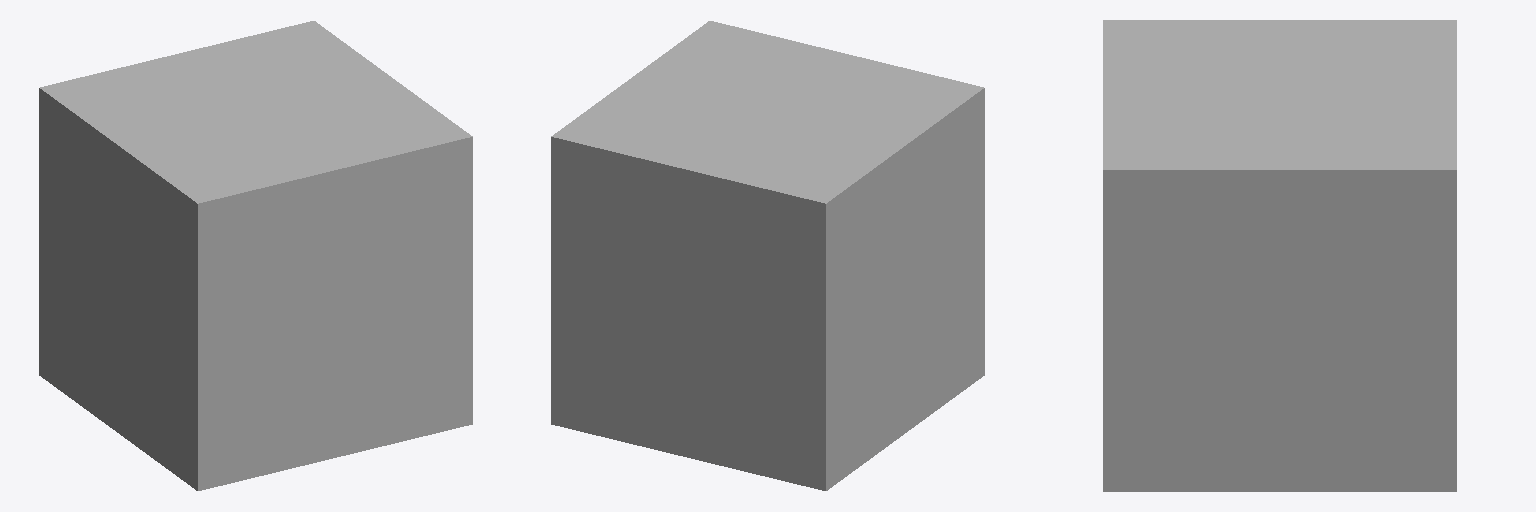
The robot description file, URDF, robot "root":
<robot name="root">
  <link name="link_ycb~cubei9_convex_piece_0">
    <inertial>
      <origin xyz="0 0 0" rpy="0 0 0"/>
      <mass value="5.26E-02"/>
      <inertia ixx="4.88E-06" ixy="-2.63E-14" ixz="-2.63E-14" iyy="4.88E-06" iyz="-1.18E-13" izz="4.88E-06"/>
    </inertial>
    <visual>
      <origin xyz="0 0 0" rpy="0 0 0"/>
      <geometry>
        <mesh filename="ycb~cubei9_convex_piece_0.obj" scale="1.0000E+00 1.0000E+00 1.0000E+00"/>
      </geometry>
      <material name="">
        <color rgba="7.50E-01 7.50E-01 7.50E-01 1"/>
      </material>
    </visual>
    <collision>
      <origin xyz="0 0 0" rpy="0 0 0"/>
      <geometry>
        <mesh filename="ycb~cubei9_convex_piece_0.obj" scale="1.0000E+00 1.0000E+00 1.0000E+00"/>
      </geometry>
    </collision>
  </link>
</robot>

--- Facts derived from the render (not from the file) ---
Views: 3 orthographic renders of the robot side by side, from view 1: azimuth 30°, elevation 25°; view 2: azimuth 150°, elevation 25°; view 3: azimuth 270°, elevation 25°.
Robot: root — 1 links, 0 joints (none); root link link_ycb~cubei9_convex_piece_0; default pose: every joint at zero.
Links seen in each view (by area): view 1: link_ycb~cubei9_convex_piece_0; view 2: link_ycb~cubei9_convex_piece_0; view 3: link_ycb~cubei9_convex_piece_0.
Link boxes in pixels (x1,y1,x2,y2): link_ycb~cubei9_convex_piece_0: [39, 21, 472, 490]; link_ycb~cubei9_convex_piece_0: [551, 21, 984, 490]; link_ycb~cubei9_convex_piece_0: [1103, 20, 1456, 491].
Size in the robot's own frame: 0.0236 by 0.0236 by 0.0236 metres.
1 mesh visuals loaded from 1 distinct referenced files (1 OBJ).